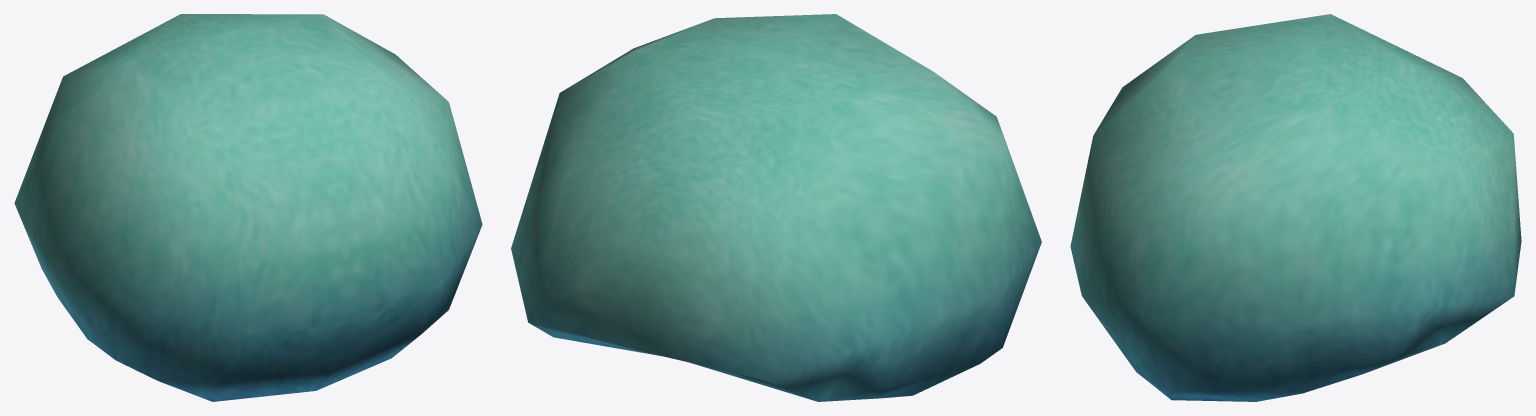
The model's file is afroC.glb.
The picture shows the model from 3 angles, left to right: view 1: azimuth 30°, elevation 25°; view 2: azimuth 150°, elevation 25°; view 3: azimuth 270°, elevation 25°; orthographic projection. The views are drawn at different scales.
Visible parts, largest first — view 1: afroC; view 2: afroC; view 3: afroC.
Boxes of the visible parts, x1,y1,x2,y2 form: afroC: (14, 14, 482, 401); afroC: (511, 14, 1041, 401); afroC: (1070, 14, 1521, 401).
Size of the model in its own units: 0.51 by 0.3662 by 0.4857.
Materials: 1 (1 with a texture image).
